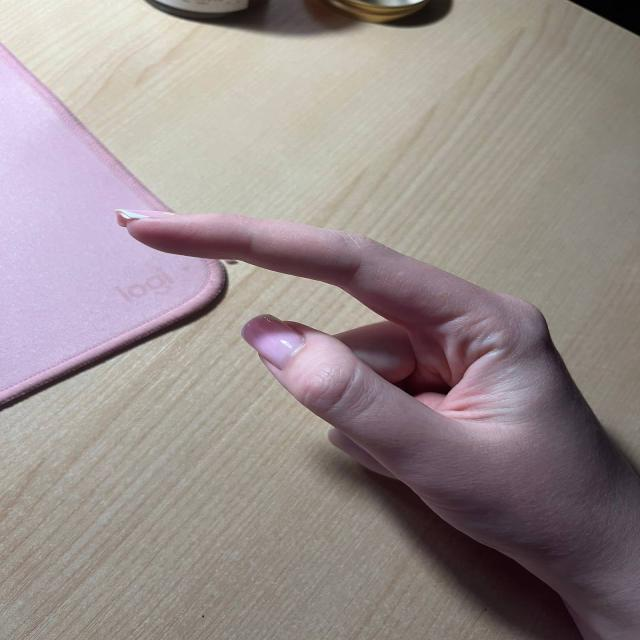z: (109, 158, 604, 554)
